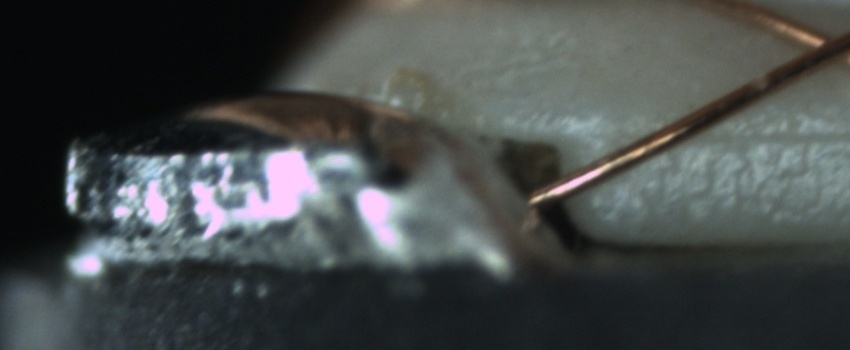CL: (770, 14, 849, 77)
DL: (671, 106, 848, 169)
